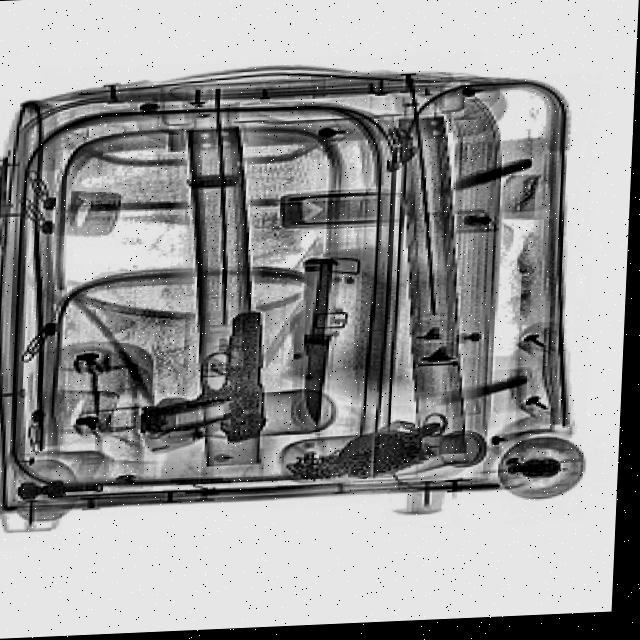grenade: (345, 422, 446, 482)
knife: (293, 249, 344, 426)
pistol: (143, 311, 274, 446)
